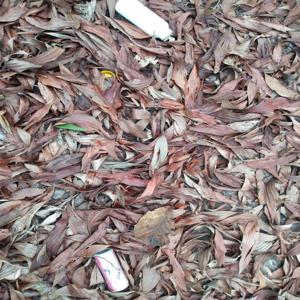metal: (94, 246, 134, 299)
plastic: (111, 1, 175, 36)
